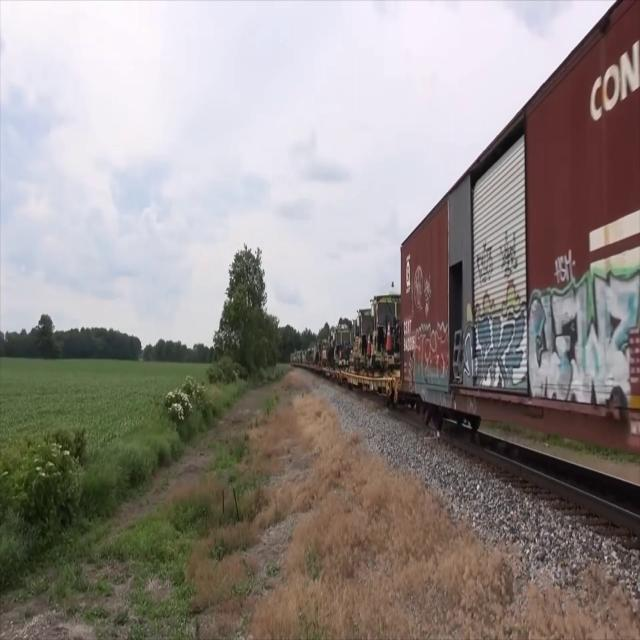boxcar: (400, 0, 640, 469)
cargo: (370, 288, 401, 366), (352, 306, 372, 368)
flatcar: (339, 368, 402, 412)
